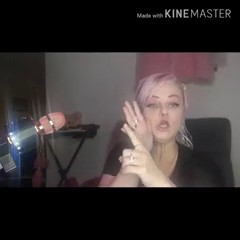U: (116, 98, 158, 184)
